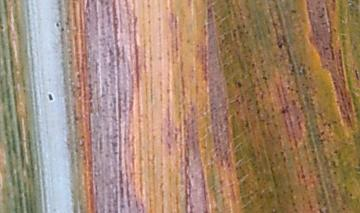tarspot: (47, 92, 54, 102), (280, 107, 287, 115), (53, 22, 61, 28), (237, 82, 243, 89), (277, 42, 283, 49), (60, 27, 65, 32), (1, 24, 5, 30)
